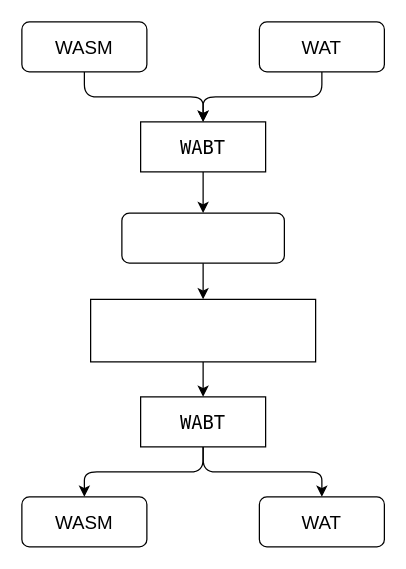
Image size: 406x569. Some labels were removed from this diagram. The shapes that lost their labels are listed below. From the top down, each one's centre as x and y in pixels, then its label:
At [202,237]: "wabt::Module".
At [202,330]: "DecentWasmCounter".
